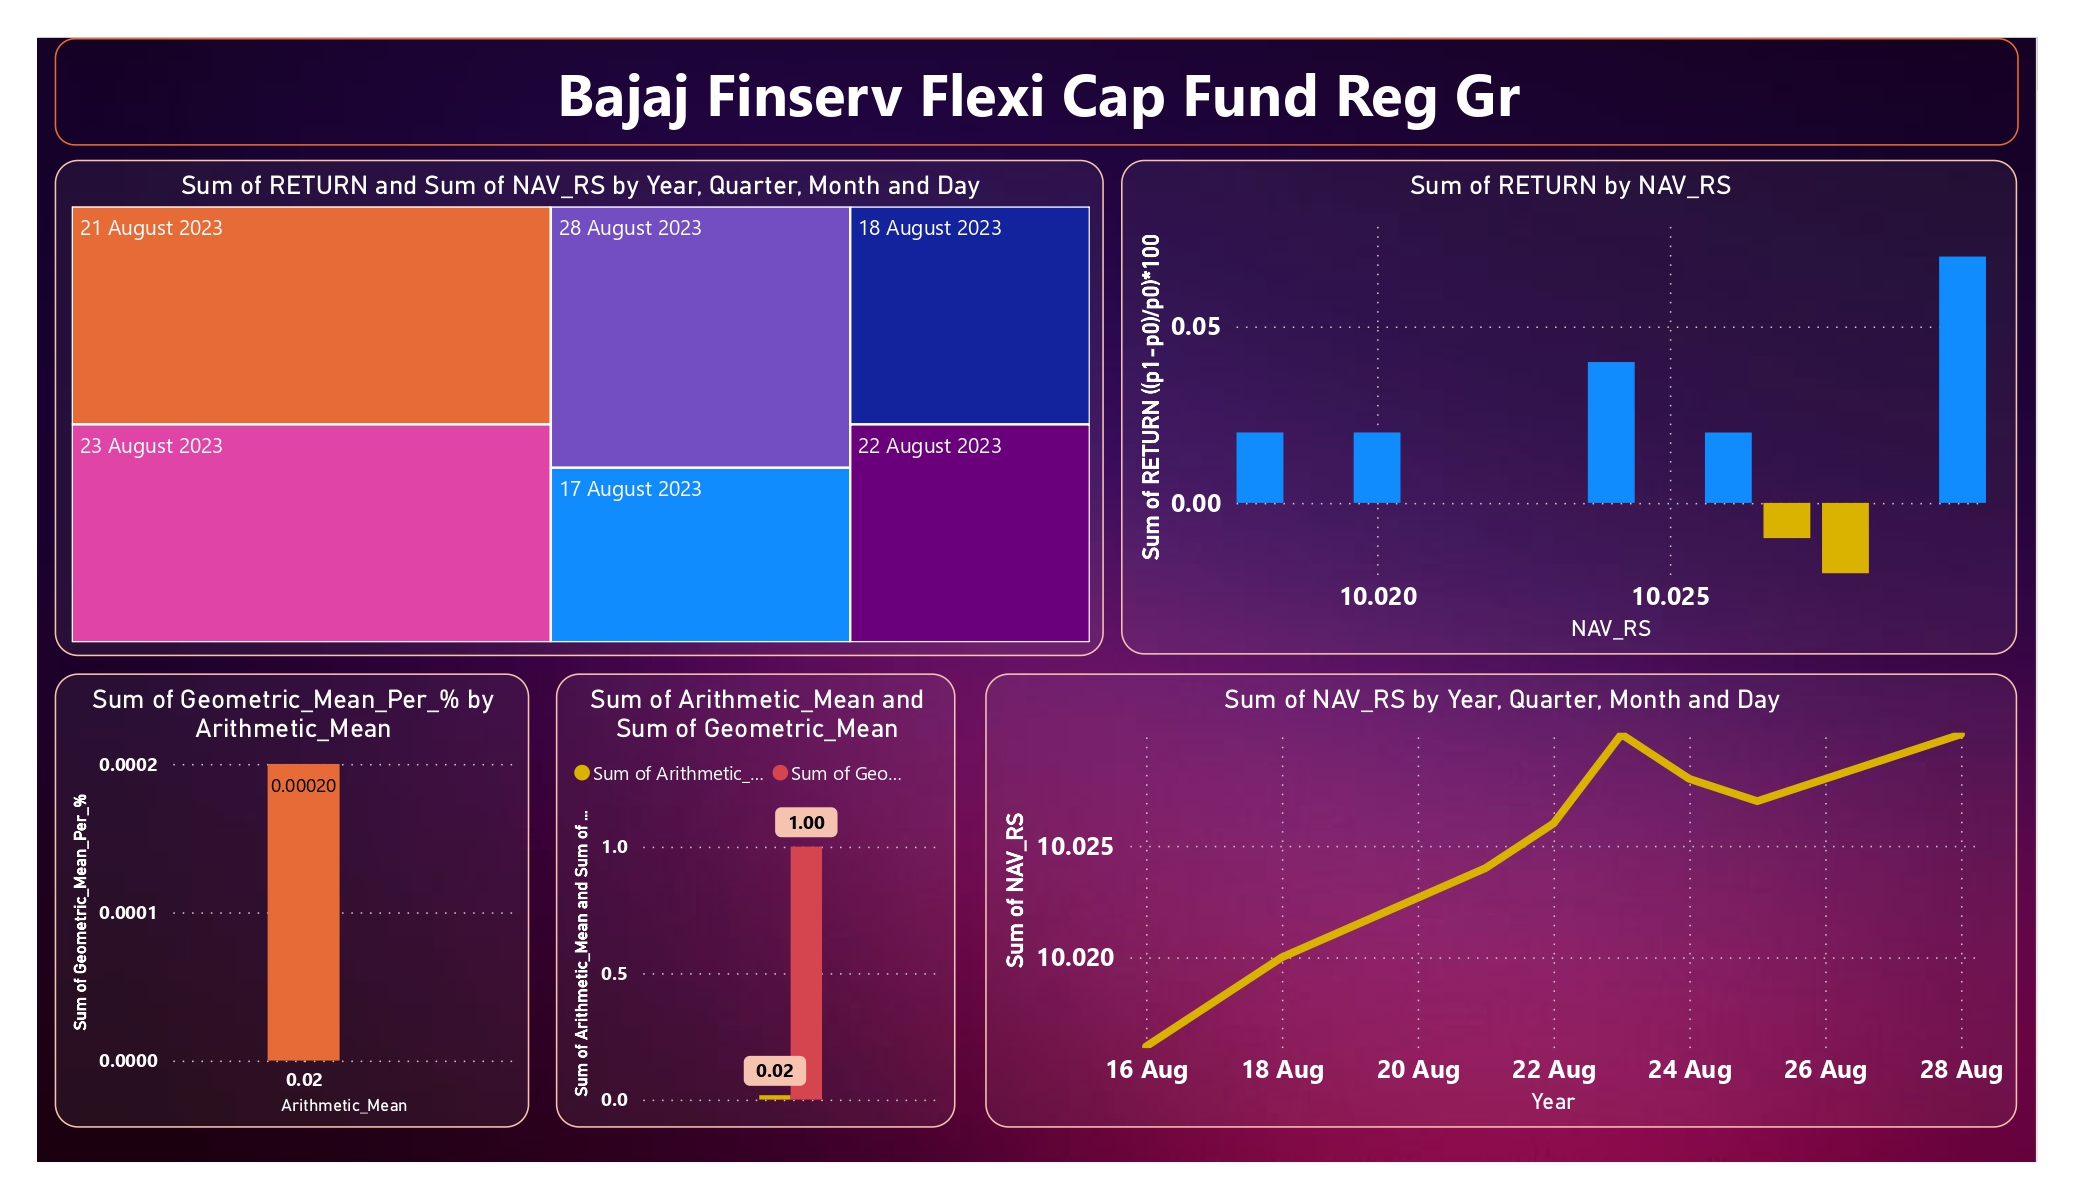

This screenshot's page, from the dashboard's own definition file:
{"tool":"powerbi","page":{"name":"Bajaj Finserv Flexi Cap Fund Reg Gr","canvas":[1280,720],"ordinal":3},"visuals":[{"type":"textbox","box":[11.4,0,1257.1,68.6],"z":0},{"type":"lineChart","fields":{"Category":["Bajaj Finserv Flexi Cap Fund Reg Gr.NAV_Date.Variation.Date Hierarchy.Year","Bajaj Finserv Flexi Cap Fund Reg Gr.NAV_Date.Variation.Date Hierarchy.Quarter","Bajaj Finserv Flexi Cap Fund Reg Gr.NAV_Date.Variation.Date Hierarchy.Month","Bajaj Finserv Flexi Cap Fund Reg Gr.NAV_Date.Variation.Date Hierarchy.Day"],"Y":["Sum(Bajaj Finserv Flexi Cap Fund Reg Gr.NAV_RS)"]},"box":[607.4,407.2,660.8,290.7],"z":1000},{"type":"treemap","title":"Sum of RETURN and Sum of NAV_RS by Year, Quarter, Month and Day","fields":{"Details":["Bajaj Finserv Flexi Cap Fund Reg Gr.NAV_Date"],"Values":["Sum(Bajaj Finserv Flexi Cap Fund Reg Gr.RETURN ((p1-p0)/p0)*100)"]},"box":[11,78.1,671.8,318.1],"z":2000},{"type":"clusteredColumnChart","title":"Sum of RETURN by NAV_RS","fields":{"Category":["Bajaj Finserv Flexi Cap Fund Reg Gr.NAV_RS"],"Y":["Sum(Bajaj Finserv Flexi Cap Fund Reg Gr.RETURN ((p1-p0)/p0)*100)"]},"box":[693.7,78.1,574.5,316.7],"z":3000},{"type":"clusteredColumnChart","fields":{"Y":["Sum(Bajaj Finserv Flexi Cap Fund Reg Gr.Arithmetic_Mean)","Sum(Bajaj Finserv Flexi Cap Fund Reg Gr.Geometric_Mean)"]},"box":[331.8,407.2,256.4,290.7],"z":4000},{"type":"columnChart","fields":{"Category":["Bajaj Finserv Flexi Cap Fund Reg Gr.Arithmetic_Mean"],"Y":["Sum(Bajaj Finserv Flexi Cap Fund Reg Gr.Geometric_Mean_Per_%)"]},"box":[11,407.2,304.4,290.7],"z":5000}]}

Visuals, with their boxes on the page's 1280x720 design canvas (x1, y1, x2, y2). These are canvas units, not pixel positions in the 2075x1200 screenshot, which may show the page scaled, cropped or inside an application window:
textbox: Rect(11, 0, 1268, 69)
lineChart - Bajaj Finserv Flexi Cap Fund Reg Gr.NAV_Date.Variation.Date Hierarchy.Year x Bajaj Finserv Flexi Cap Fund Reg Gr.NAV_Date.Variation.Date Hierarchy.Quarter: Rect(607, 407, 1268, 698)
"Sum of RETURN and Sum of NAV_RS by Year, Quarter, Month and Day" treemap: Rect(11, 78, 683, 396)
"Sum of RETURN by NAV_RS" clusteredColumnChart: Rect(694, 78, 1268, 395)
clusteredColumnChart - Sum(Bajaj Finserv Flexi Cap Fund Reg Gr.Arithmetic_Mean) x Sum(Bajaj Finserv Flexi Cap Fund Reg Gr.Geometric_Mean): Rect(332, 407, 588, 698)
columnChart - Bajaj Finserv Flexi Cap Fund Reg Gr.Arithmetic_Mean x Sum(Bajaj Finserv Flexi Cap Fund Reg Gr.Geometric_Mean_Per_%): Rect(11, 407, 315, 698)
